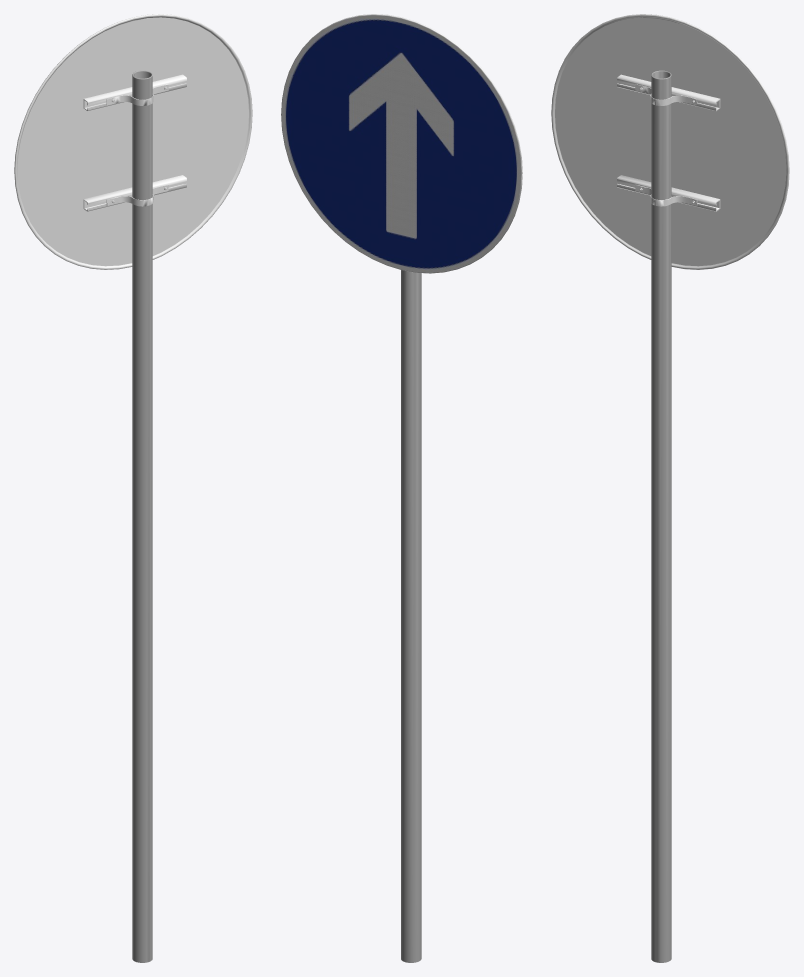
File: o3_segnale_06.glb
3 renders of one model, left to right at view 1: azimuth 30°, elevation 25°; view 2: azimuth 150°, elevation 25°; view 3: azimuth 330°, elevation 25°, orthographic.
Parts seen in each view (by area): view 1: sb_modello; view 2: sb_modello; view 3: sb_modello.
Boxes of the visible parts, left/top/right/bottom form: sb_modello: left=14, top=14, right=252, bottom=962; sb_modello: left=281, top=14, right=522, bottom=962; sb_modello: left=551, top=14, right=789, bottom=962.
Size of the model in its own units: 0.7672 by 2.88 by 0.0845.
Materials: 5 (1 with a texture image).
